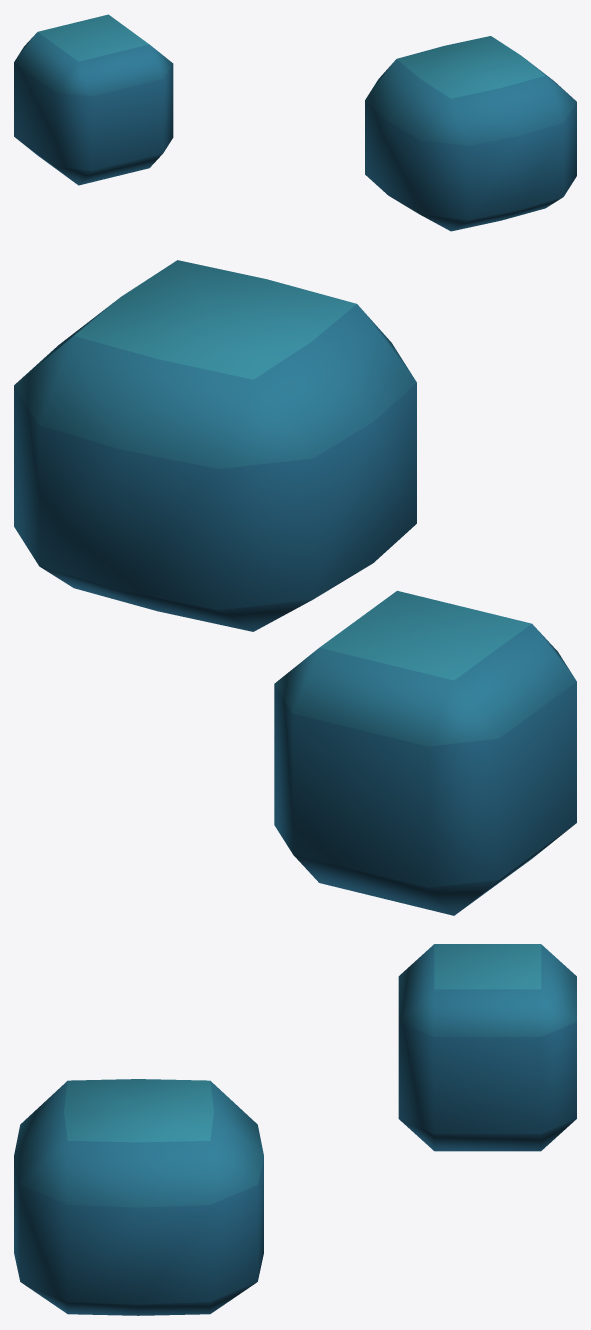
File: Pebbles_Ice_2.fbx
3 views of the same model, one above another, from view 1: azimuth 30°, elevation 25°; view 2: azimuth 150°, elevation 25°; view 3: azimuth 270°, elevation 25° (orthographic). The views are drawn at different scales.
Parts seen in each view (by area): view 1: Pebbles_Ice_2_LOD0; view 2: Pebbles_Ice_2_LOD0; view 3: Pebbles_Ice_2_LOD0.
Part boxes in pixels (left/top/right/bottom): Pebbles_Ice_2_LOD0: left=14, top=14, right=576, bottom=231; Pebbles_Ice_2_LOD0: left=14, top=260, right=576, bottom=915; Pebbles_Ice_2_LOD0: left=14, top=944, right=576, bottom=1315.
Size of what is drawn, in the model's own units: 0.4895 by 0.1608 by 0.4731.
